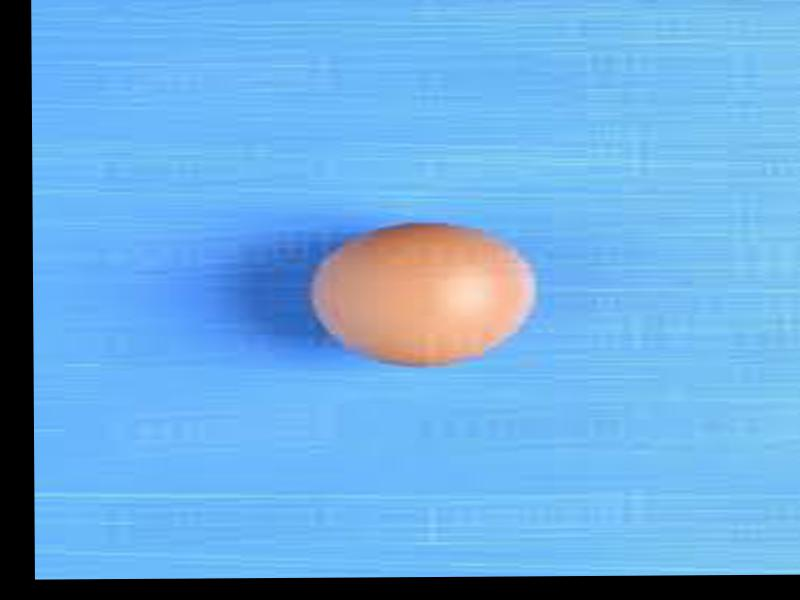Eggs: (303, 223, 540, 366)
